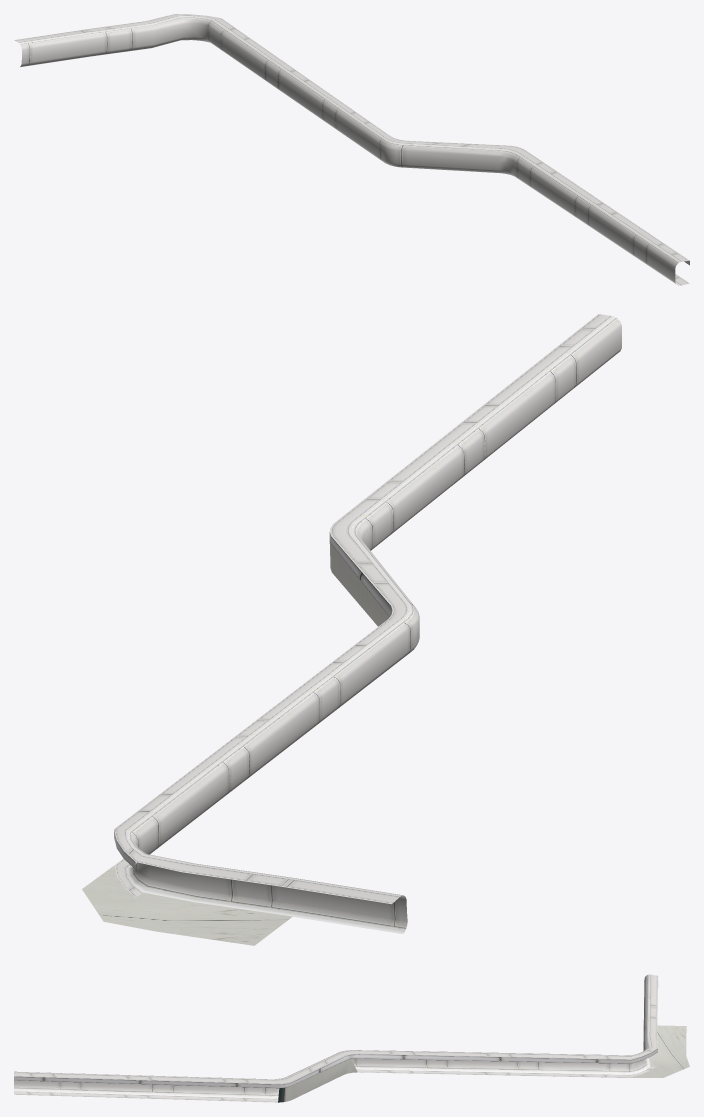
File: STA20_BridgeCurveA01.FBX
3 views of the same model, one above another, from view 1: azimuth 30°, elevation 25°; view 2: azimuth 150°, elevation 25°; view 3: azimuth 270°, elevation 25° (orthographic). The views are drawn at different scales.
Parts seen in each view (by area): view 1: STA20_BridgeCurveA01; view 2: STA20_BridgeCurveA01; view 3: STA20_BridgeCurveA01.
Boxes of the visible parts, x1,y1,x2,y2 form: STA20_BridgeCurveA01: (14,14,689,285); STA20_BridgeCurveA01: (82,314,621,945); STA20_BridgeCurveA01: (14,974,689,1102).
Size of the model in its own units: 13.94 by 2.16 by 37.1.
